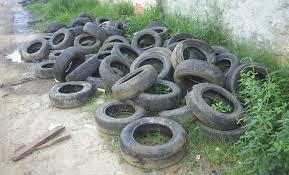tire: (118, 116, 191, 168), (185, 82, 244, 132), (93, 100, 151, 136), (174, 60, 230, 95), (108, 63, 160, 100), (171, 38, 221, 76), (132, 80, 183, 111), (130, 51, 175, 85), (49, 81, 101, 108), (100, 56, 141, 89), (54, 48, 90, 85), (65, 54, 107, 83), (130, 28, 165, 53), (111, 43, 145, 67), (72, 31, 105, 54), (85, 21, 118, 42), (17, 37, 50, 57), (33, 59, 68, 77), (47, 28, 75, 50)
